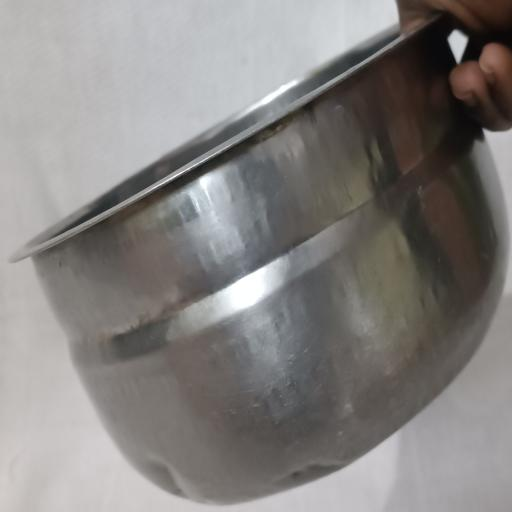vessel: (12, 17, 508, 503)
